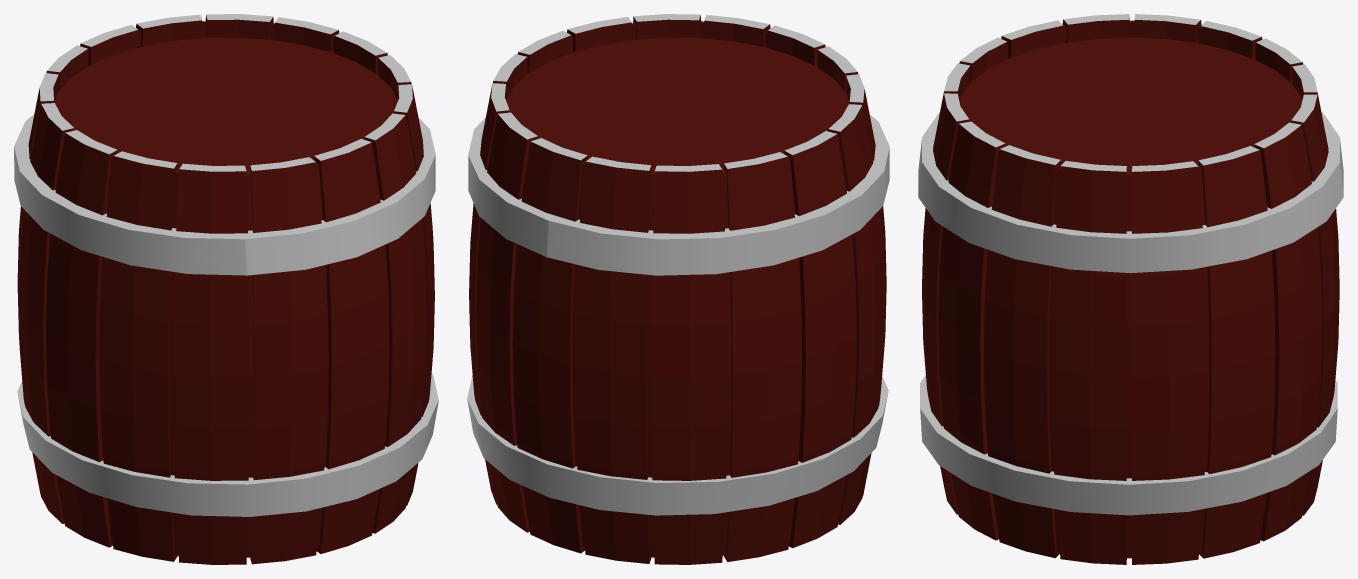
Rendered from Barrel_fixed.fbx.
The picture shows the model from 3 angles, left to right: view 1: azimuth 30°, elevation 25°; view 2: azimuth 150°, elevation 25°; view 3: azimuth 270°, elevation 25°; orthographic projection.
Visible parts, largest first — view 1: barrel, stripup, stripdonw; view 2: barrel, stripup, stripdonw; view 3: barrel, stripup, stripdonw.
Part boxes in pixels (bbox=[...]): barrel: bbox=[17, 14, 434, 564]; stripup: bbox=[14, 114, 435, 275]; stripdonw: bbox=[17, 373, 438, 516]; barrel: bbox=[469, 14, 886, 564]; stripup: bbox=[468, 114, 889, 275]; stripdonw: bbox=[467, 375, 888, 515]; barrel: bbox=[922, 14, 1339, 564]; stripup: bbox=[918, 112, 1343, 273]; stripdonw: bbox=[920, 375, 1337, 515].
Size of the model in its own units: 89.34 by 91.29 by 89.59.
